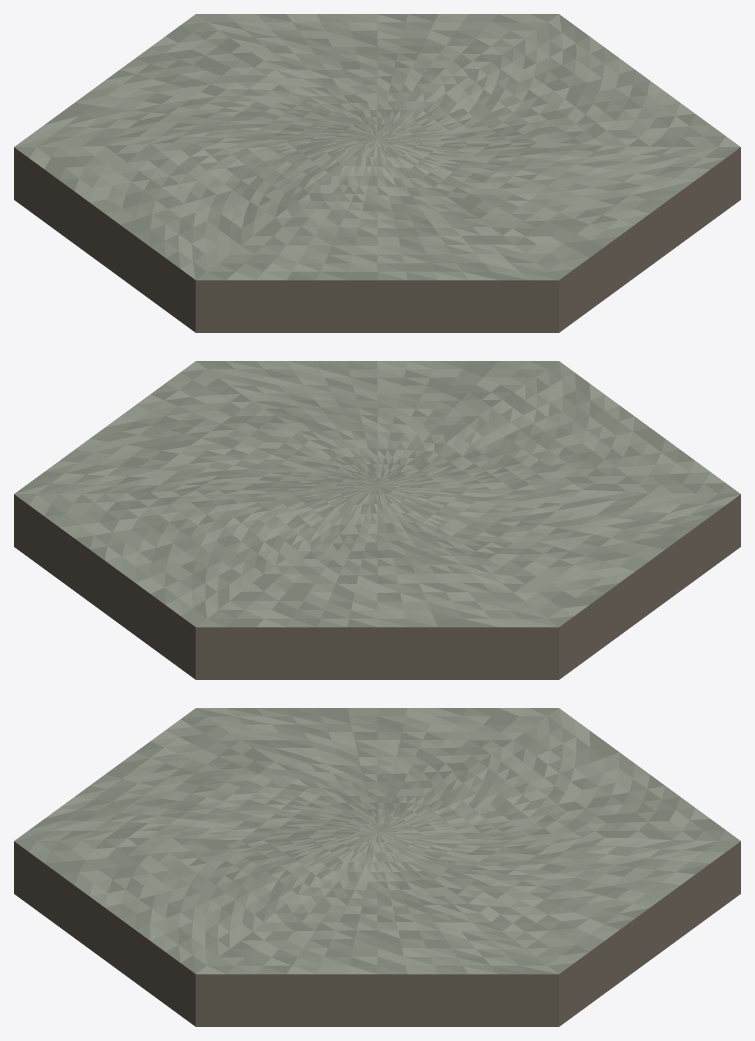
The model's file is TERRAIN_TUNDRA_v02.fbx.
The picture shows the model from 3 angles, top to bottom: view 1: azimuth 30°, elevation 25°; view 2: azimuth 150°, elevation 25°; view 3: azimuth 270°, elevation 25°; orthographic projection.
Parts seen in each view (by area): view 1: TERRAIN_TUNDRA_v02; view 2: TERRAIN_TUNDRA_v02; view 3: TERRAIN_TUNDRA_v02.
Boxes of the visible parts, x1=… form: TERRAIN_TUNDRA_v02: x1=14, y1=14, x2=740, y2=332; TERRAIN_TUNDRA_v02: x1=14, y1=361, x2=740, y2=679; TERRAIN_TUNDRA_v02: x1=14, y1=708, x2=740, y2=1026.
Bounding box in the file's own units: 173 × 18.58 × 200.
